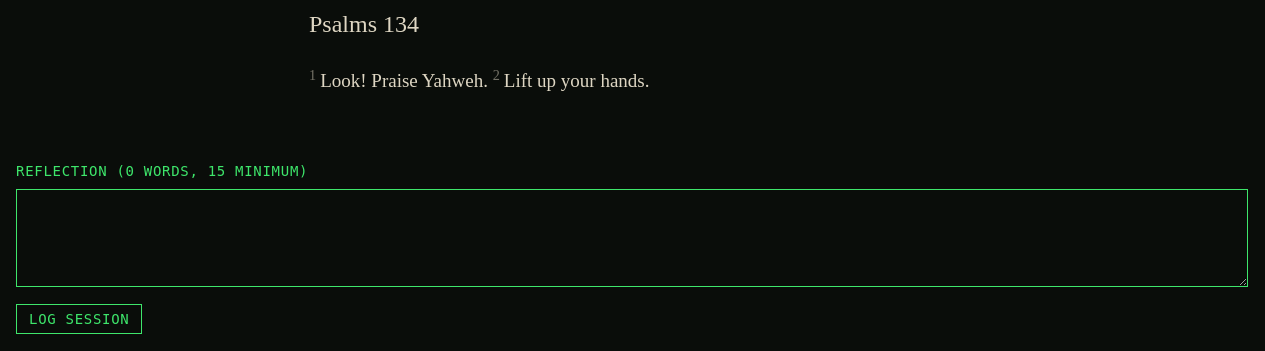
it: ChapterView › logs an unverified session when nothing has happened yet
Click the button "LOG SESSION" at (79, 319), box [16,304,142,334]
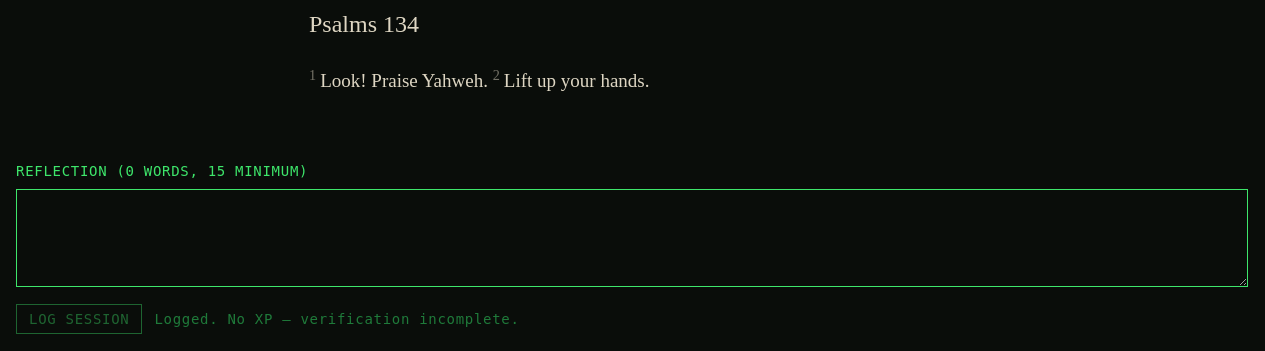
Result: the text "Logged. No XP — verification incomplete." is shown at [154,309,520,329]
